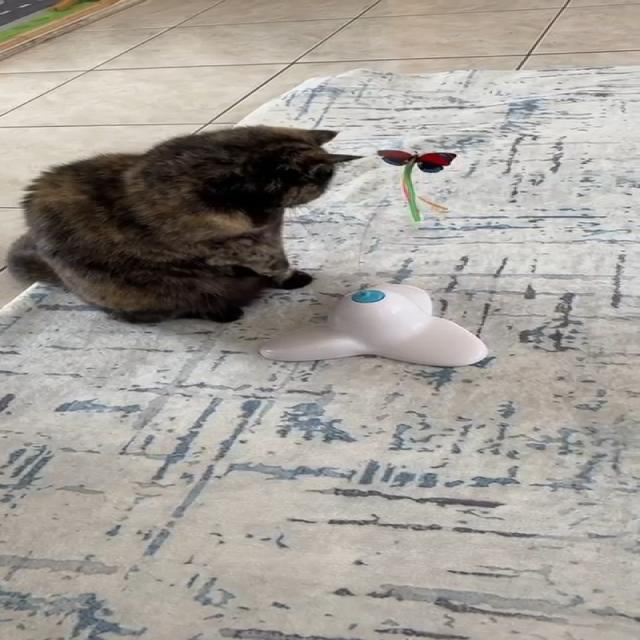authorized: (6, 123, 366, 325)
